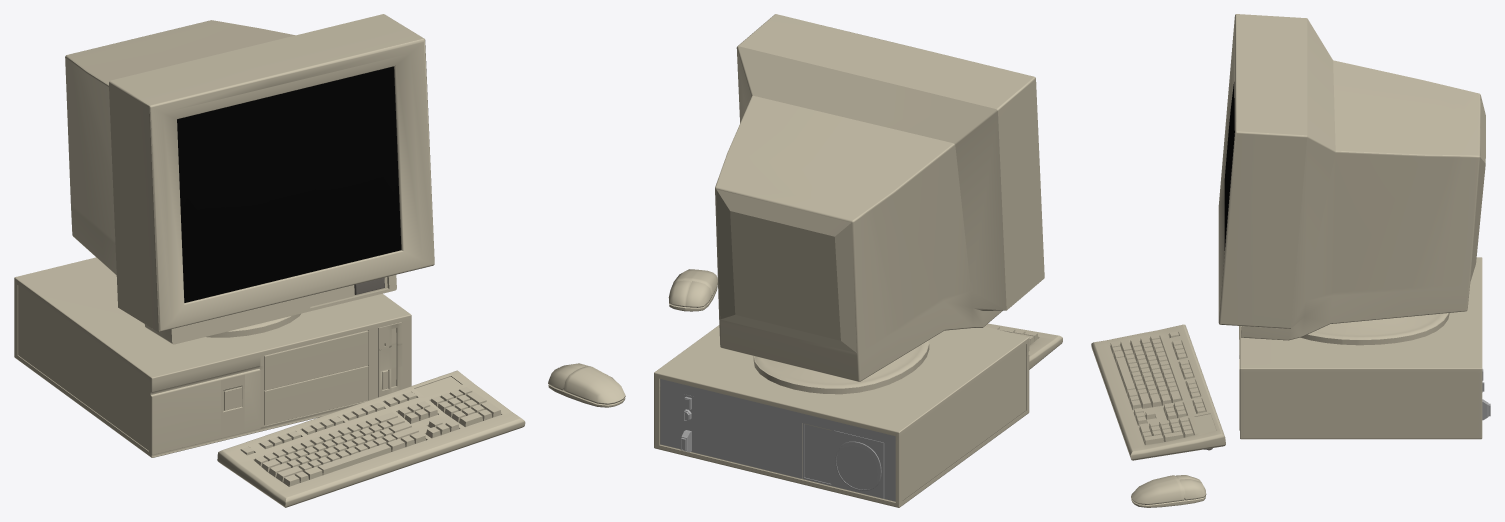
File: br_computer.fbx
3 renders of one model, left to right at view 1: azimuth 30°, elevation 25°; view 2: azimuth 150°, elevation 25°; view 3: azimuth 270°, elevation 25°, orthographic. The views are drawn at different scales.
Visible parts, largest first — view 1: pasted__pCube233; view 2: pasted__pCube233; view 3: pasted__pCube233.
Part boxes in pixels (bbox=[...]): pasted__pCube233: bbox=[14, 14, 625, 507]; pasted__pCube233: bbox=[654, 14, 1062, 507]; pasted__pCube233: bbox=[1091, 14, 1490, 507].
Bounding box in the file's own units: 16.32 × 13.17 × 15.17.
